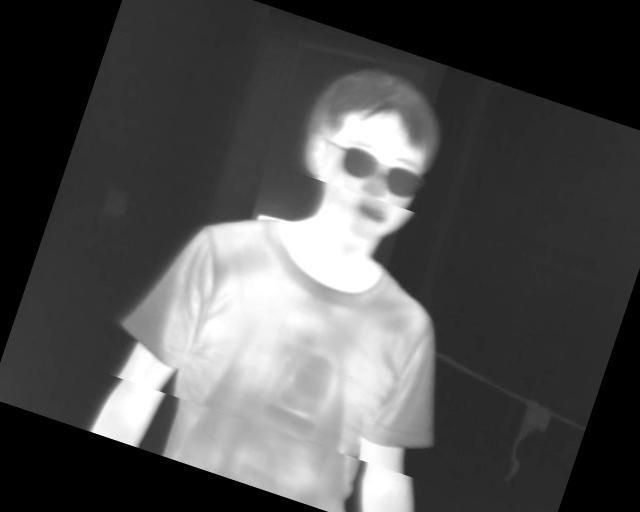face: (277, 50, 461, 254)
